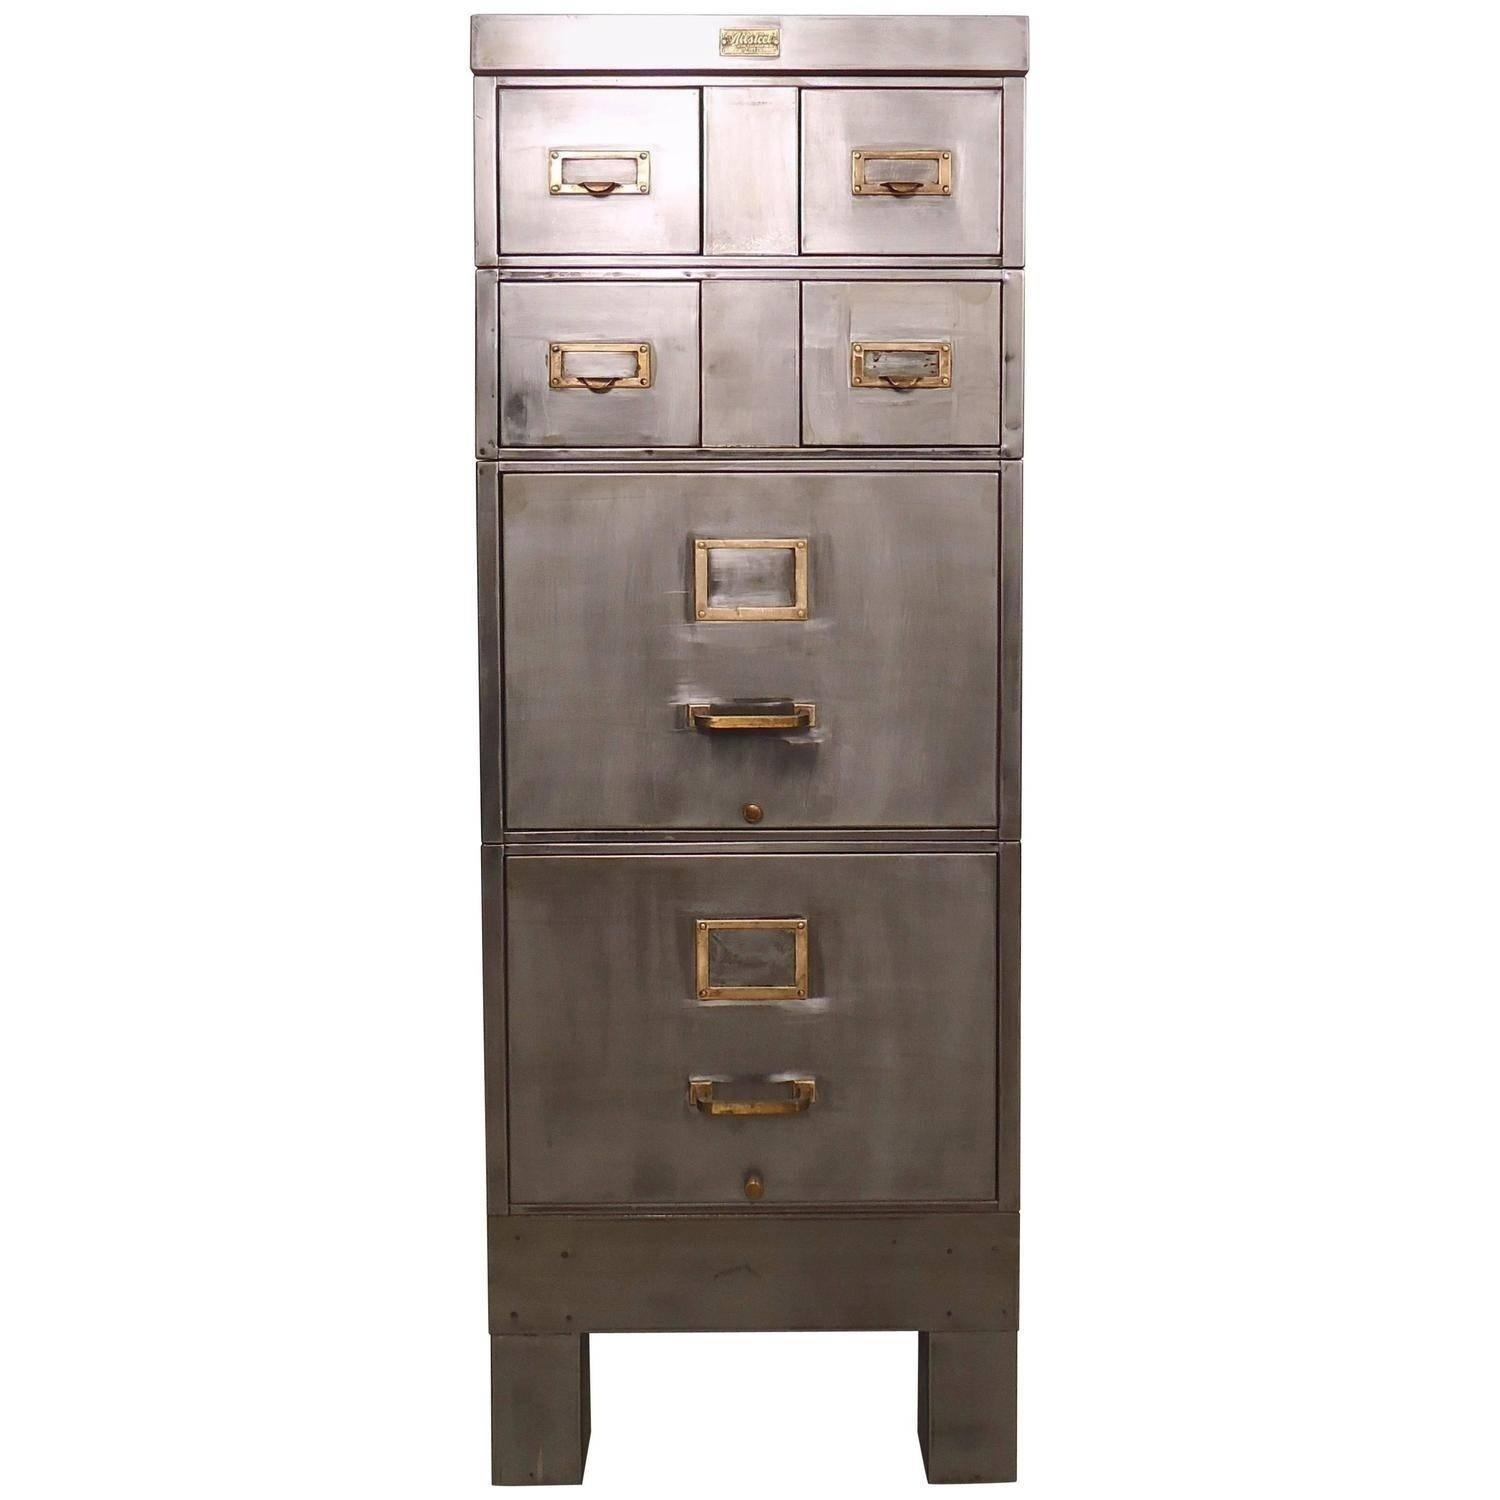cabinet_door: (495, 477, 992, 834), (500, 859, 992, 1206), (493, 1227, 1007, 1342), (488, 88, 705, 265), (795, 88, 1003, 254), (802, 275, 1004, 444), (490, 275, 696, 440), (707, 276, 806, 452), (701, 88, 797, 261)
handle: (677, 691, 826, 760), (685, 1060, 827, 1128), (874, 170, 949, 202), (571, 370, 629, 404), (573, 174, 624, 203)
